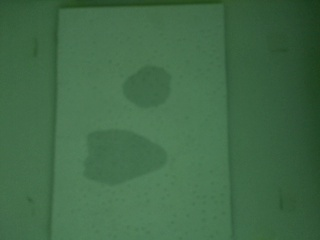Water_detected: (101, 140, 162, 185), (129, 69, 165, 96)
